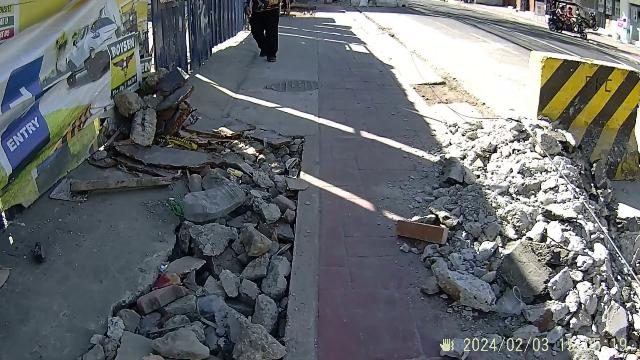cracked_pavement: (442, 110, 640, 356), (162, 128, 306, 360)
